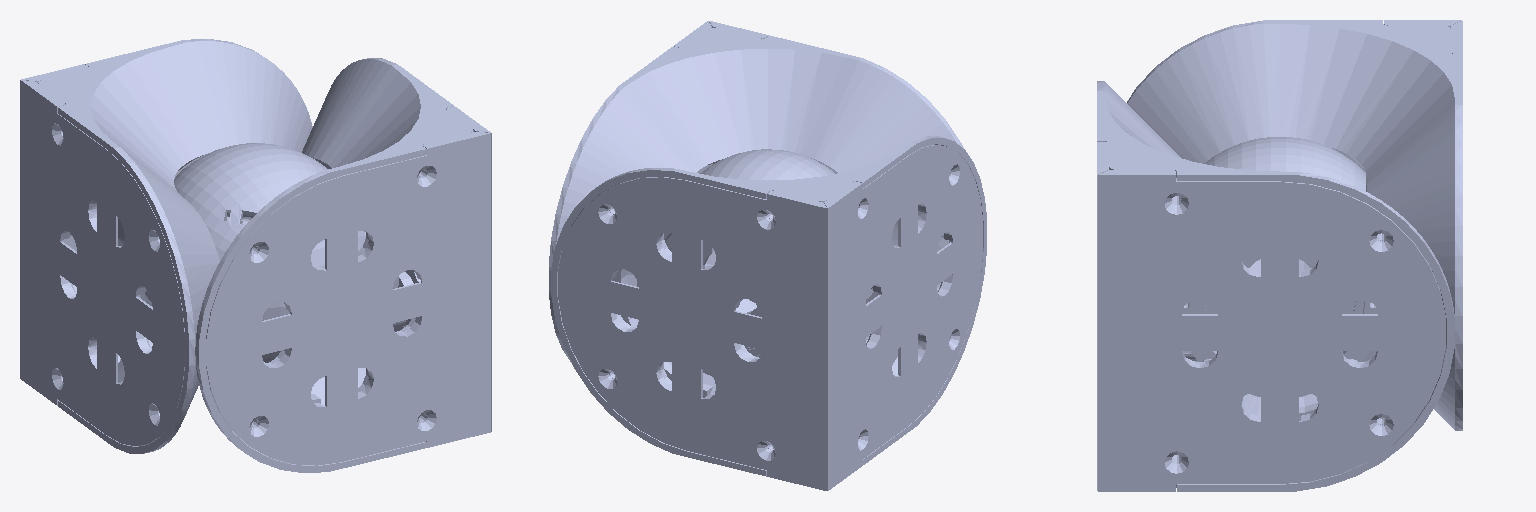
URDF robot description (shell):
<?xml version="1.0" encoding="utf-8"?>
<!-- This URDF was automatically created by SolidWorks to URDF Exporter! Originally created by [author] ([email redacted]) 
     Commit Version: 1.6.0-4-g7f85cfe  Build Version: 1.6.7995.38578
     For more information, please see http://wiki.ros.org/sw_urdf_exporter -->
<robot
  name="shell">
  <link
    name="0XBody">
    <inertial>
      <origin
        xyz="-0.0019165 -0.020284 -1.5446E-08"
        rpy="0 0 0" />
      <mass
        value="0.069744" />
      <inertia
        ixx="8.68E-05"
        ixy="-2.3313E-05"
        ixz="-3.6916E-12"
        iyy="8.6964E-05"
        iyz="2.5395E-11"
        izz="8.7186E-05" />
    </inertial>
    <visual>
      <origin
        xyz="0 0 0"
        rpy="0 0 0" />
      <geometry>
        <mesh
          filename="package://shell/meshes/0XBody.STL" />
      </geometry>
      <material
        name="">
        <color
          rgba="0.79216 0.81961 0.93333 1" />
      </material>
    </visual>
    <collision>
      <origin
        xyz="0 0 0"
        rpy="0 0 0" />
      <geometry>
        <mesh
          filename="package://shell/meshes/0XBody.STL" />
      </geometry>
    </collision>
  </link>
  <link
    name="0CenterBody">
    <inertial>
      <origin
        xyz="-0.0022809 -0.0021962 1.0803E-06"
        rpy="0 0 0" />
      <mass
        value="0.018688" />
      <inertia
        ixx="1.0293E-05"
        ixy="8.5442E-08"
        ixz="-6.5039E-08"
        iyy="1.0301E-05"
        iyz="6.5245E-08"
        izz="9.1191E-06" />
    </inertial>
    <visual>
      <origin
        xyz="0 0 0"
        rpy="0 0 0" />
      <geometry>
        <mesh
          filename="package://shell/meshes/0CenterBody.STL" />
      </geometry>
      <material
        name="">
        <color
          rgba="0.79216 0.81961 0.93333 1" />
      </material>
    </visual>
    <collision>
      <origin
        xyz="0 0 0"
        rpy="0 0 0" />
      <geometry>
        <mesh
          filename="package://shell/meshes/0CenterBody.STL" />
      </geometry>
    </collision>
  </link>
  <joint
    name="0XJoint"
    type="continuous">
    <origin
      xyz="-0.0218 0 0"
      rpy="0 0 0" />
    <parent
      link="0XBody" />
    <child
      link="0CenterBody" />
    <axis
      xyz="1 0 0" />
  </joint>
  <link
    name="0YBody">
    <inertial>
      <origin
        xyz="-0.020284 -0.0019165 1.5445E-08"
        rpy="0 0 0" />
      <mass
        value="0.069744" />
      <inertia
        ixx="8.6964E-05"
        ixy="-2.3313E-05"
        ixz="-2.5395E-11"
        iyy="8.68E-05"
        iyz="3.6916E-12"
        izz="8.7186E-05" />
    </inertial>
    <visual>
      <origin
        xyz="0 0 0"
        rpy="0 0 0" />
      <geometry>
        <mesh
          filename="package://shell/meshes/0YBody.STL" />
      </geometry>
      <material
        name="">
        <color
          rgba="0.79216 0.81961 0.93333 1" />
      </material>
    </visual>
    <collision>
      <origin
        xyz="0 0 0"
        rpy="0 0 0" />
      <geometry>
        <mesh
          filename="package://shell/meshes/0YBody.STL" />
      </geometry>
    </collision>
  </link>
  <joint
    name="0Yjoint"
    type="continuous">
    <origin
      xyz="0 0.0218 0"
      rpy="0 0 0" />
    <parent
      link="0CenterBody" />
    <child
      link="0YBody" />
    <axis
      xyz="0 -1 0" />
  </joint>
</robot>

--- Render facts (derived) ---
Views: 3 orthographic renders of the robot side by side, from view 1: azimuth 30°, elevation 25°; view 2: azimuth 150°, elevation 25°; view 3: azimuth 270°, elevation 25°.
Model shell with 3 links and 2 joints (2 continuous), rooted at 0XBody, posed all joints at 0.
Visible links, largest first — view 1: 0XBody, 0YBody, 0CenterBody; view 2: 0YBody, 0XBody, 0CenterBody; view 3: 0XBody, 0YBody, 0CenterBody.
Boxes of the visible links, bbox=[...] form: 0XBody: bbox=[195, 58, 491, 472]; 0YBody: bbox=[20, 39, 312, 453]; 0CenterBody: bbox=[174, 143, 328, 260]; 0YBody: bbox=[551, 136, 986, 490]; 0XBody: bbox=[549, 21, 963, 362]; 0CenterBody: bbox=[700, 149, 834, 347]; 0XBody: bbox=[1097, 81, 1454, 491]; 0YBody: bbox=[1127, 20, 1462, 430]; 0CenterBody: bbox=[1204, 137, 1365, 313].
Size in the robot's own frame: 0.0916 by 0.0916 by 0.0876 metres.
3 mesh visuals loaded from 3 distinct referenced files (3 binary STL).